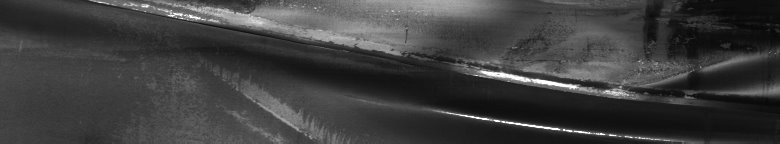ke: (101, 4, 776, 136)
